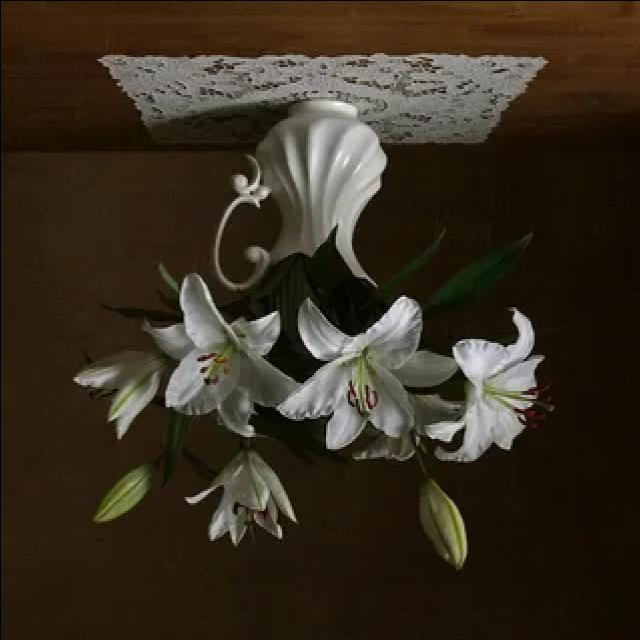lily: (278, 288, 450, 453)
